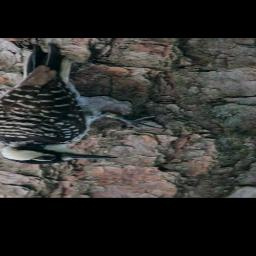Woodpecker: (0, 43, 177, 165)
